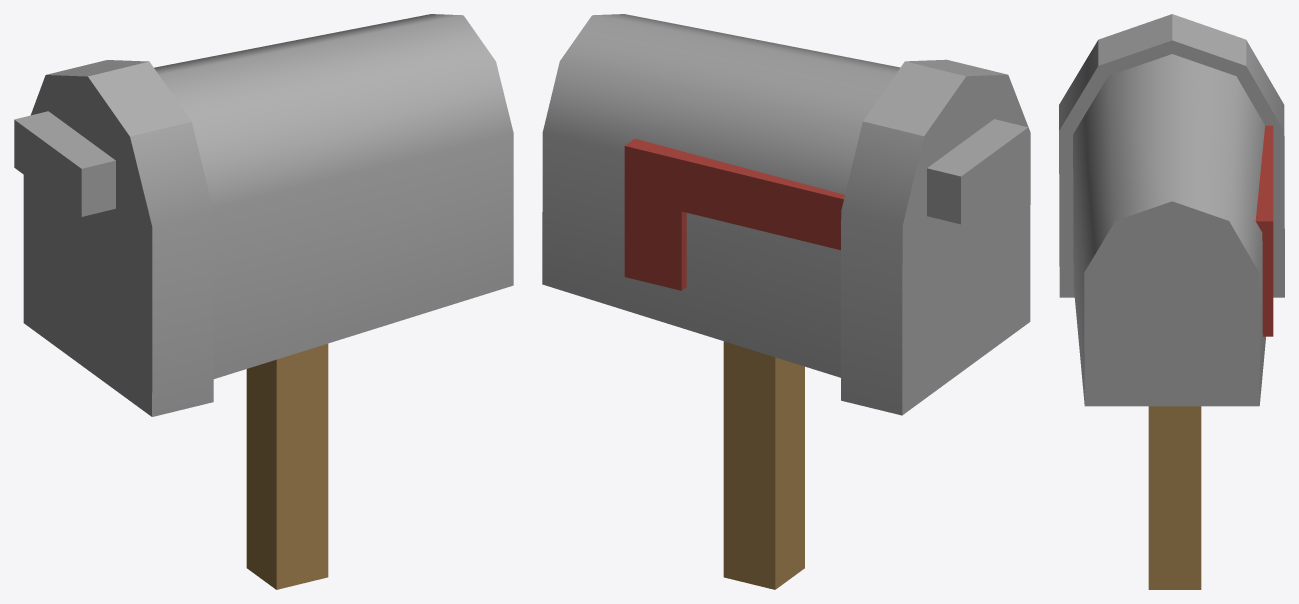
The model's file is MailBox_01.fbx.
3 renders of one model, left to right at view 1: azimuth 30°, elevation 25°; view 2: azimuth 150°, elevation 25°; view 3: azimuth 270°, elevation 25°, orthographic. The views are drawn at different scales.
Parts seen in each view (by area): view 1: pCube5; view 2: pCube5; view 3: pCube5.
Boxes of the visible parts, <box> form: pCube5: <box>14,14,513,589</box>; pCube5: <box>542,14,1030,589</box>; pCube5: <box>1059,14,1284,589</box>.
Size of the model in its own units: 95.05 by 121 by 51.78.
